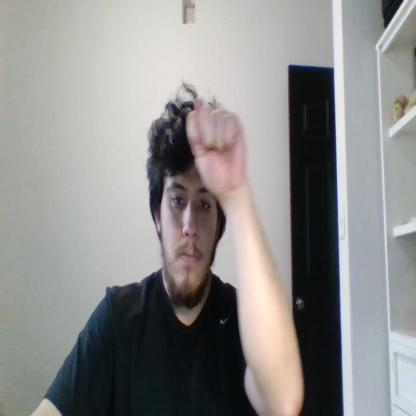T: (187, 94, 247, 188)
